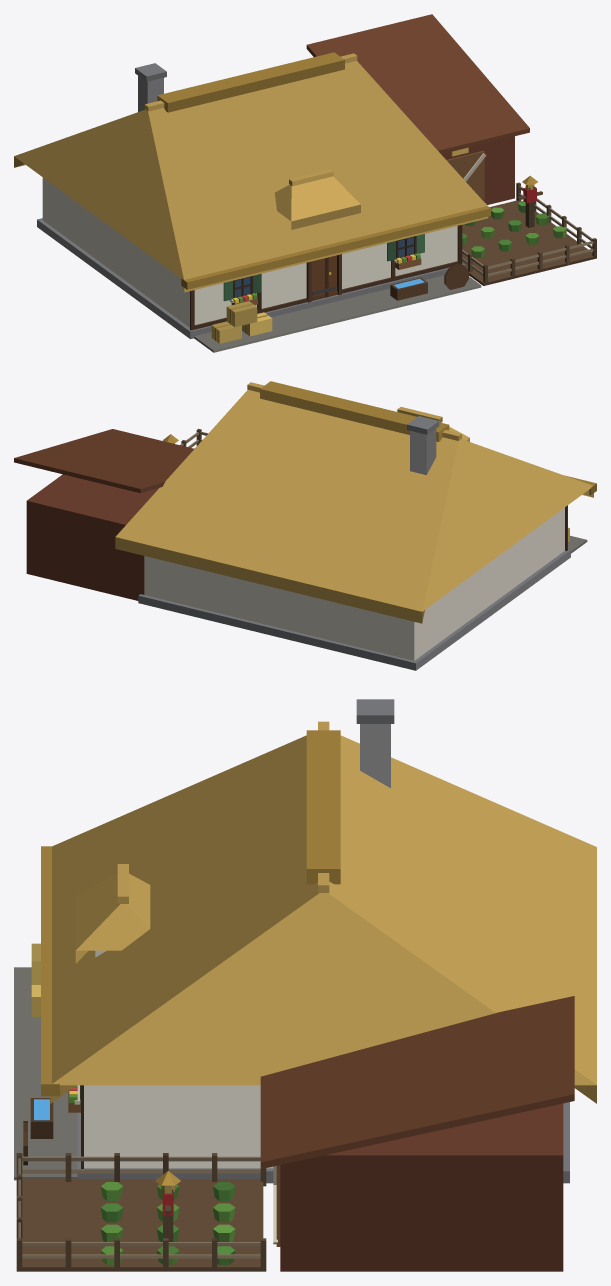
Rendered from farmhouse.glb.
The picture shows the model from 3 angles, top to bottom: view 1: azimuth 30°, elevation 25°; view 2: azimuth 150°, elevation 25°; view 3: azimuth 270°, elevation 25°; orthographic projection. The views are drawn at different scales.
Visible parts, largest first — view 1: farmhouse_body, farmhouse_ground; view 2: farmhouse_body; view 3: farmhouse_body, farmhouse_ground.
Boxes of the visible parts, box(x1,y1,x2,y2) form: farmhouse_body: box(14, 14, 596, 343); farmhouse_ground: box(194, 200, 596, 352); farmhouse_body: box(14, 381, 596, 670); farmhouse_body: box(16, 699, 596, 1271); farmhouse_ground: box(14, 967, 263, 1271).
Bounding box in the file's own units: 20.22 × 8.86 × 15.46.
